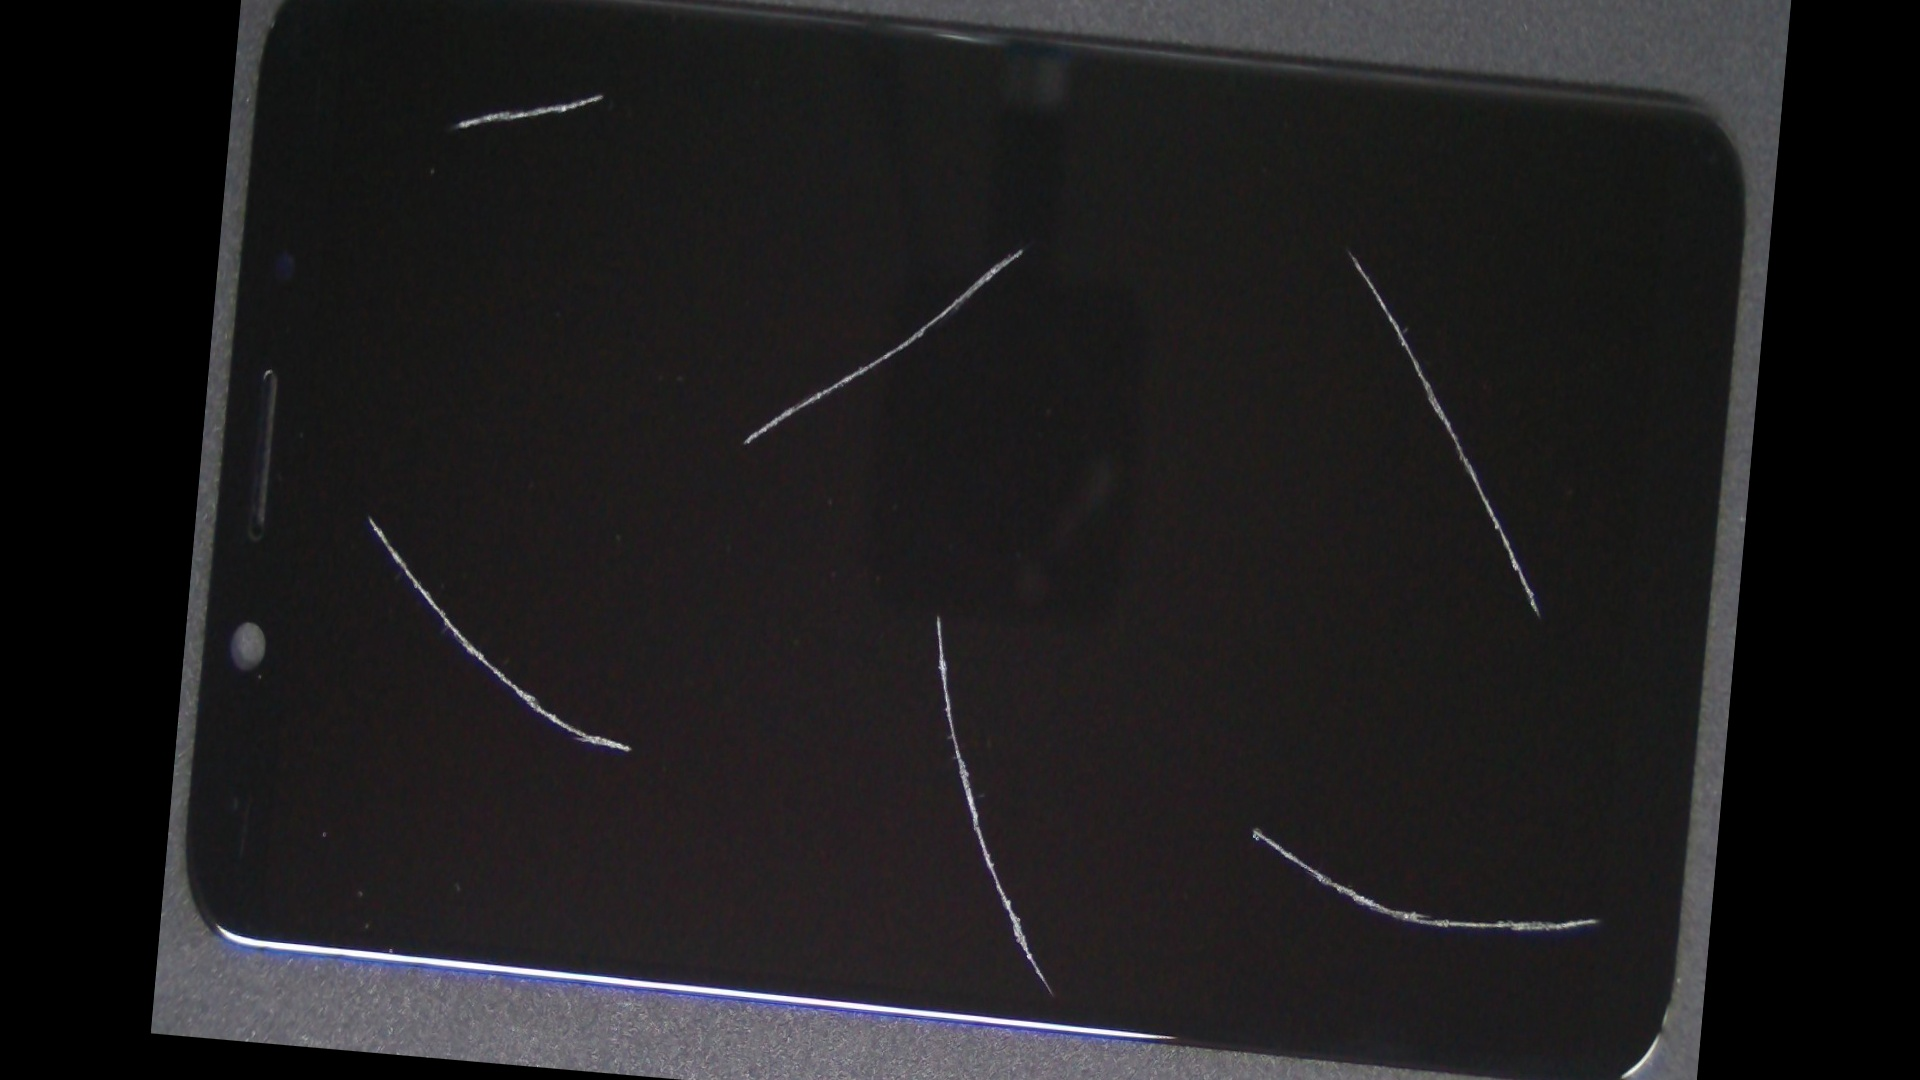oil: (690, 323, 1755, 1080), (533, 215, 1341, 1014), (775, 34, 1780, 452), (608, 34, 1436, 463), (253, 165, 483, 862), (407, 0, 793, 231)
